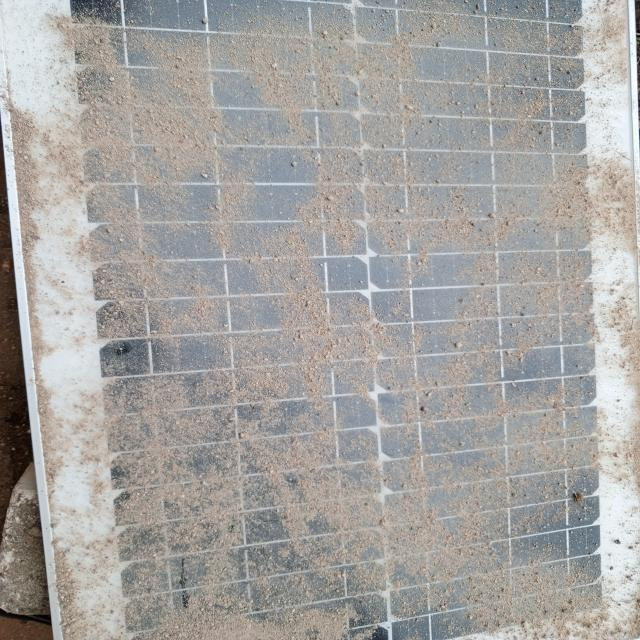Surface Contaminant: (103, 0, 636, 638)
